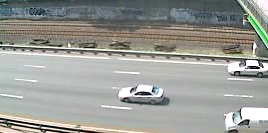car: (116, 82, 167, 108), (221, 104, 266, 133), (223, 57, 268, 81)
